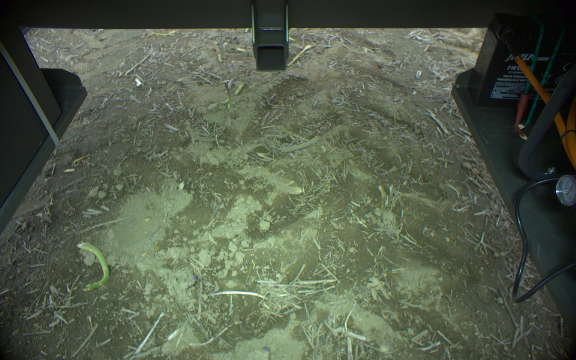aspa: (75, 240, 110, 291), (287, 44, 312, 66), (223, 82, 236, 118)
